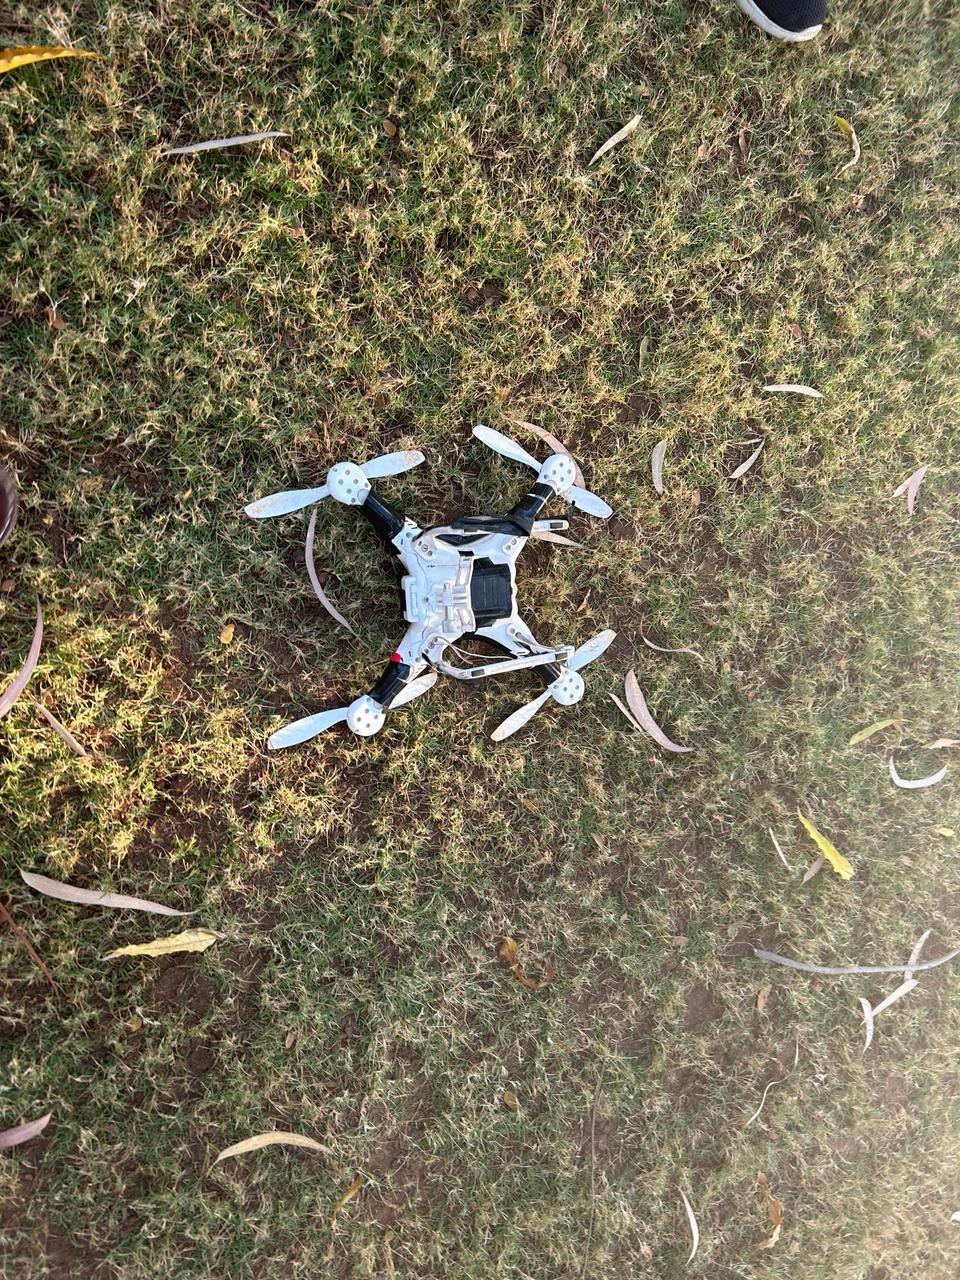drone: (127, 387, 799, 850)
